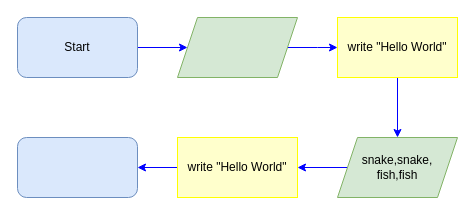
The diagram is 475 pixels wide and 215 high, and some of its shapes have lost their labels. Each missing label, with the box of its shape:
End: (16, 136, 138, 198)
Hello, World: (176, 16, 298, 78)
